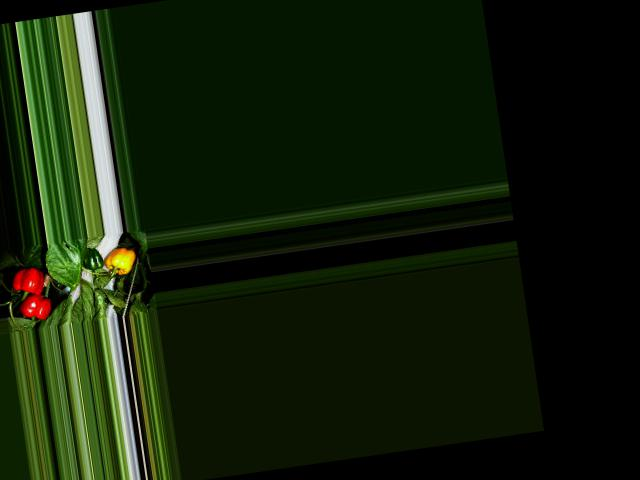bell_pepper: (101, 242, 141, 278)
